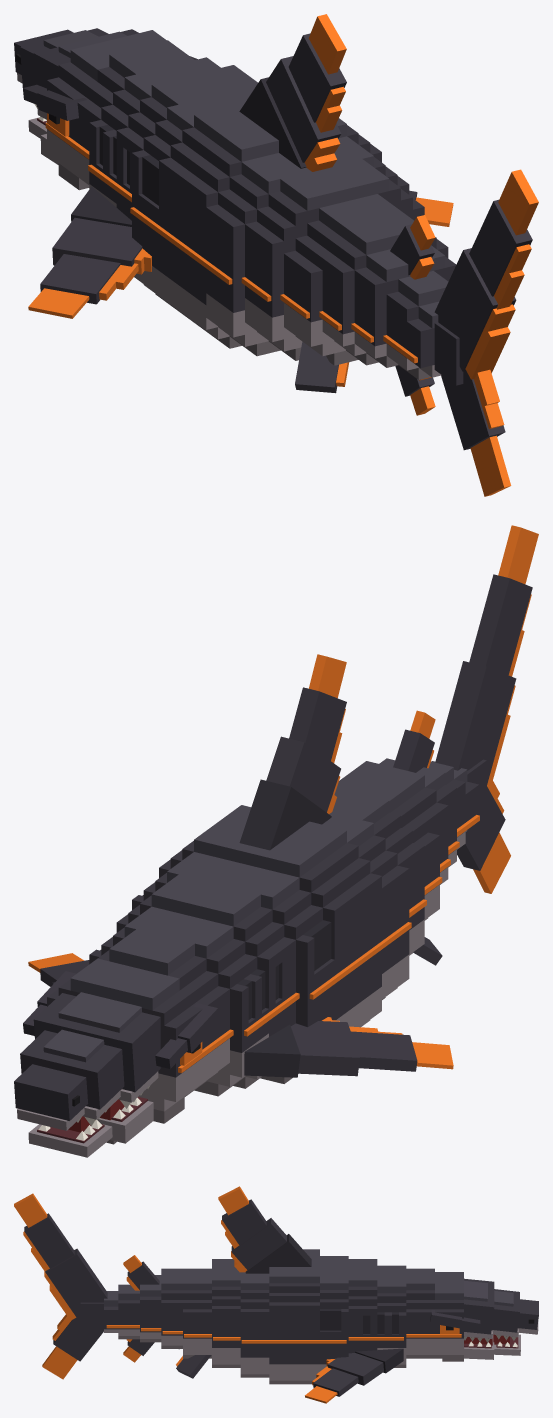
File: HellfinShark.obj
3 renders of one model, top to bottom at view 1: azimuth 30°, elevation 25°; view 2: azimuth 150°, elevation 25°; view 3: azimuth 270°, elevation 25°, orthographic. The views are drawn at different scales.
Parts seen in each view (by area): view 1: S2, S3, S1, Tail, S4, Head, S5; view 2: S2, Head, S1, Tail, S3, S4, S5; view 3: S2, Head, S1, Tail, S3, S4, S5.
Part boxes in pixels (left/top/right/bottom): S2: left=130, top=14, right=381, bottom=348; S3: left=205, top=136, right=424, bottom=360; S1: left=28, top=57, right=453, bottom=318; Tail: left=434, top=169, right=538, bottom=496; S4: left=280, top=194, right=448, bottom=393; Head: left=14, top=28, right=197, bottom=190; S5: left=351, top=215, right=456, bottom=415; S2: left=132, top=654, right=387, bottom=1083; Head: left=14, top=929, right=233, bottom=1157; S1: left=28, top=874, right=453, bottom=1096; Tail: left=435, top=525, right=538, bottom=893; S3: left=322, top=787, right=426, bottom=999; S4: left=337, top=761, right=450, bottom=965; S5: left=379, top=710, right=479, bottom=867; S2: left=218, top=1186, right=348, bottom=1384; Head: left=406, top=1268, right=538, bottom=1361; S1: left=305, top=1259, right=406, bottom=1403; Tail: left=14, top=1193, right=107, bottom=1379; S3: left=212, top=1259, right=269, bottom=1377; S4: left=161, top=1268, right=211, bottom=1378; S5: left=104, top=1255, right=161, bottom=1362.
Size of the model in its own units: 16.33 by 13.19 by 32.81.
1 material, 1 textured.
